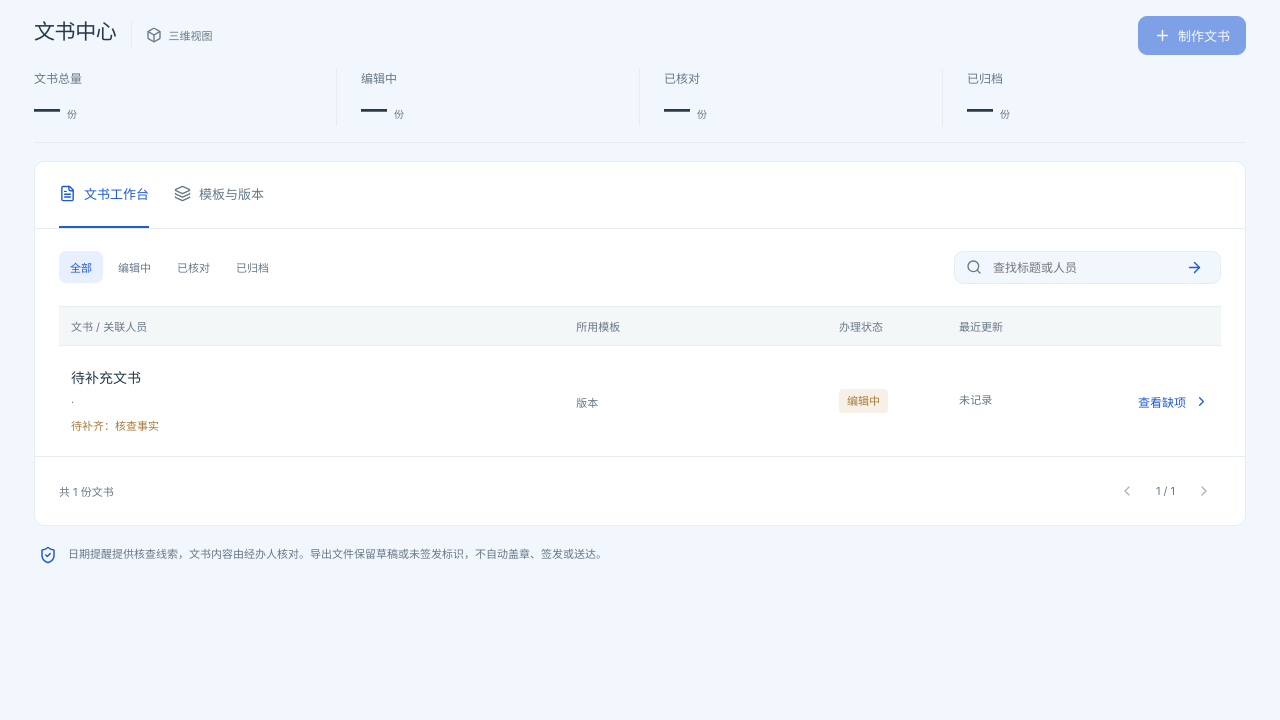
Test: keeps an unsaved document in its workspace until discard is explicitly confirmed
Expected: the text "待补齐：核查事实" is shown, [71,417,159,436]
Click the button with aria-label "打开文书 待补充文书" at (106, 377), box [59,346,1221,456]
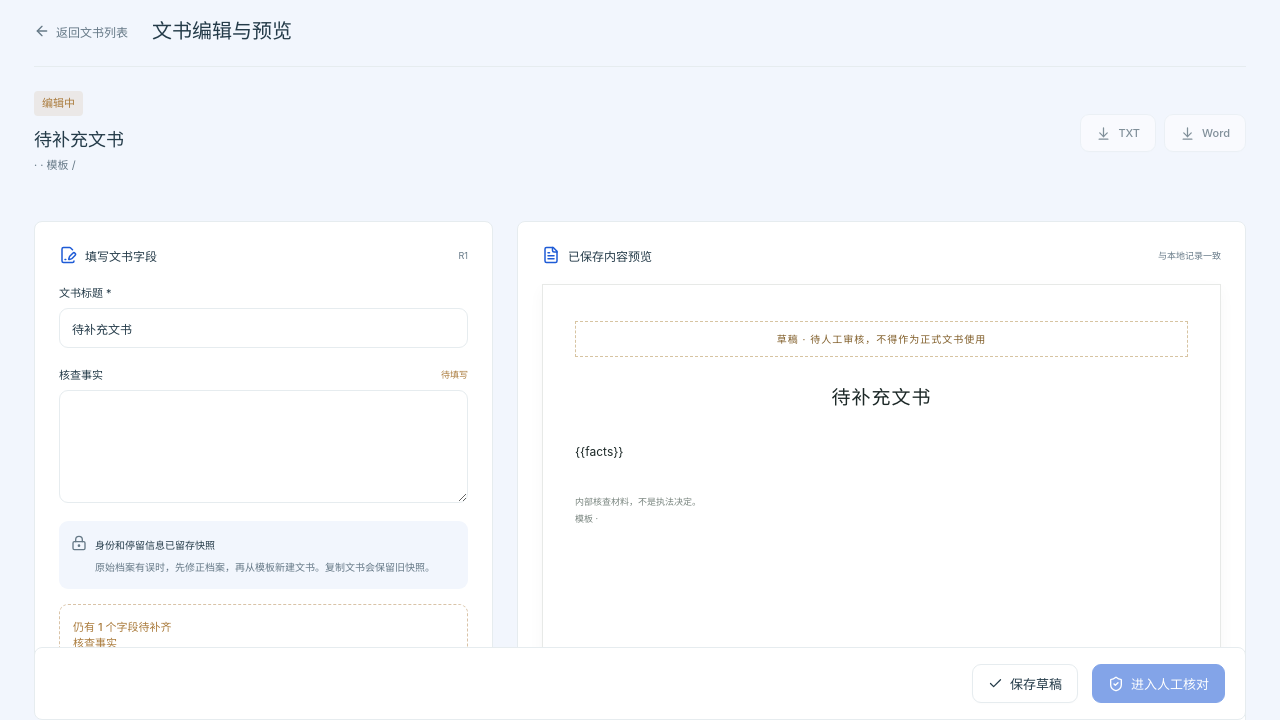
Type "修改" into the field labelled "文书标题 *" at (264, 328), box [59,308,468,348]
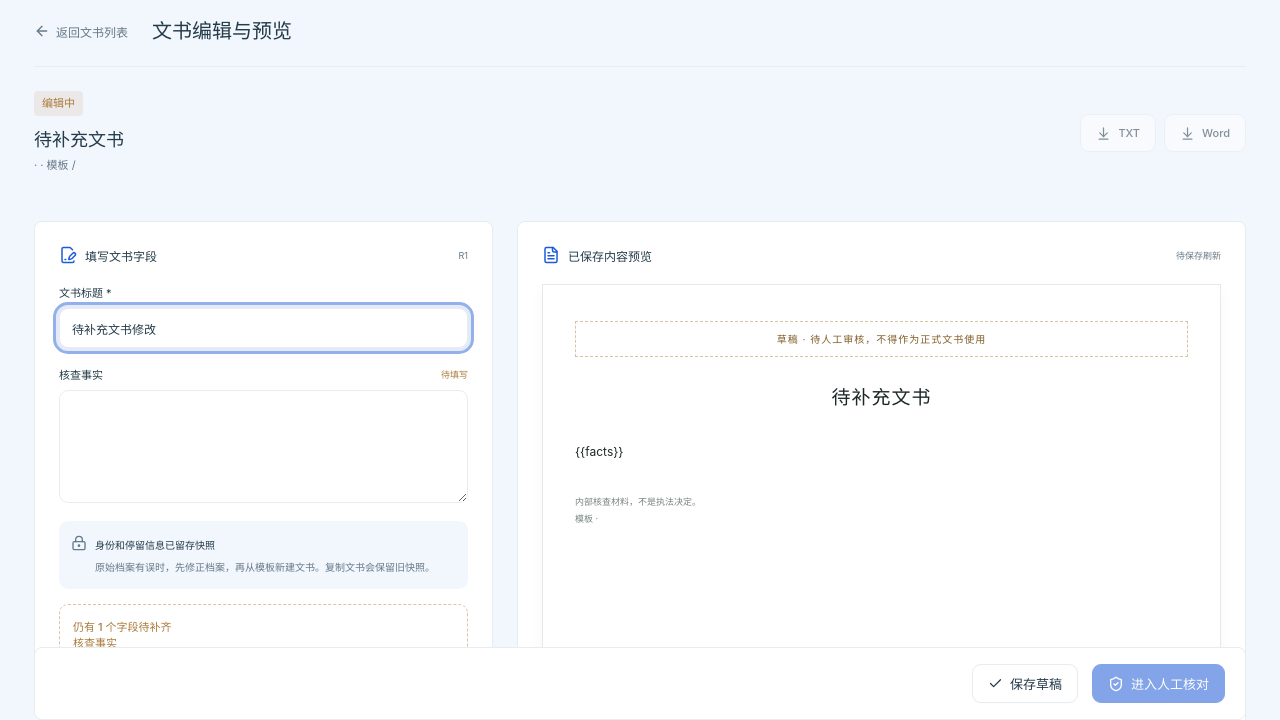
Click the button "返回文书列表" at (81, 31), box [34,18,128,44]
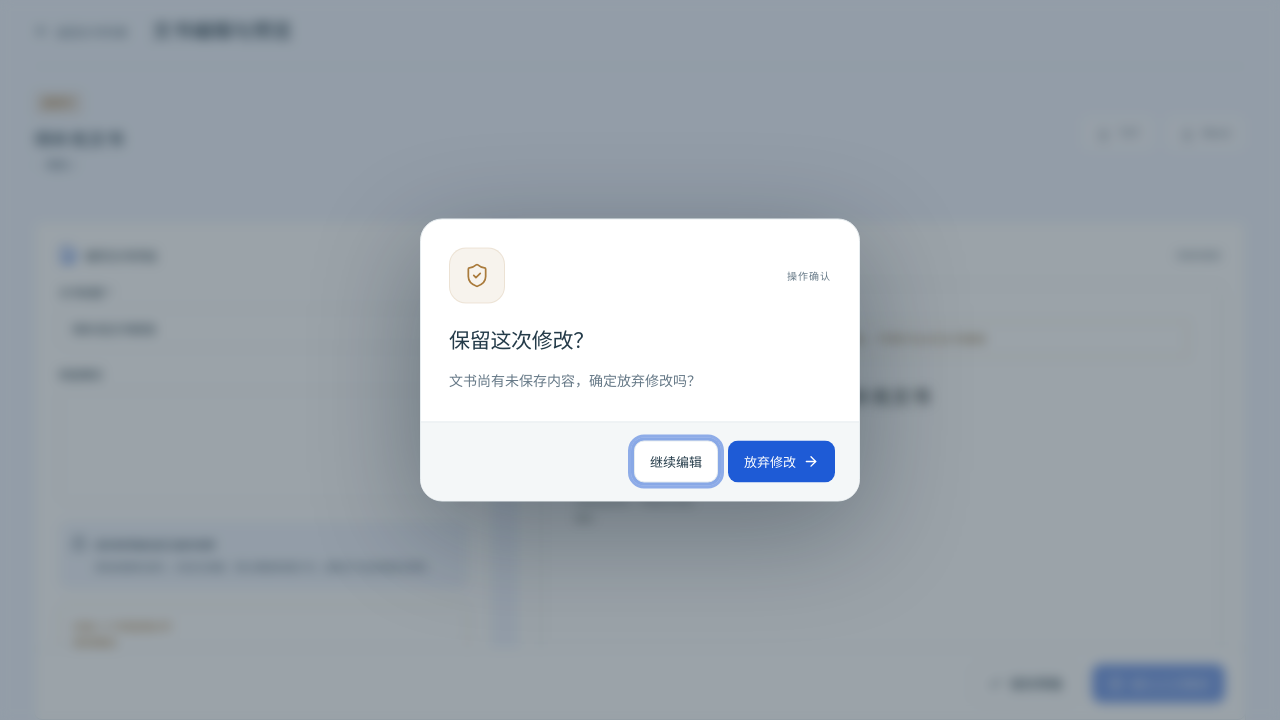
Click the button "继续编辑" at (676, 462), box [634,440,718,482]
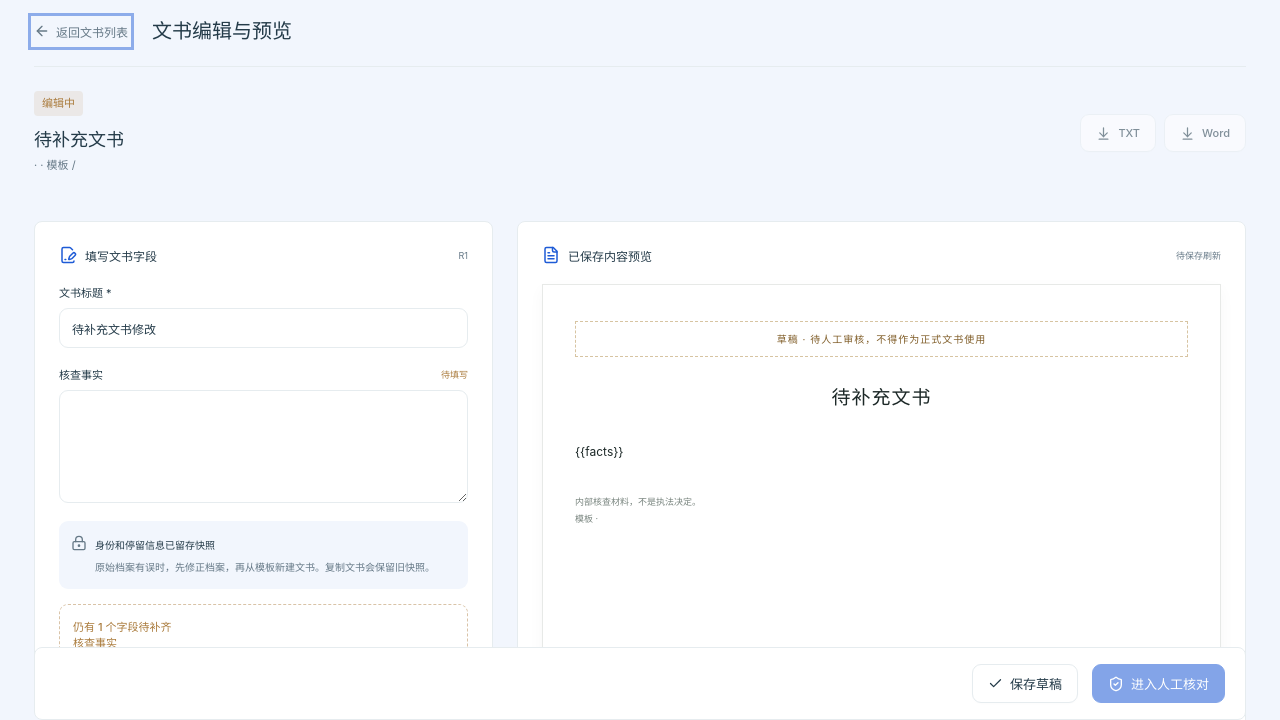
Expected: the field labelled "文书标题 *" holds "待补充文书修改", [59,308,468,348]
Click the button "返回文书列表" at (81, 31), box [34,18,128,44]
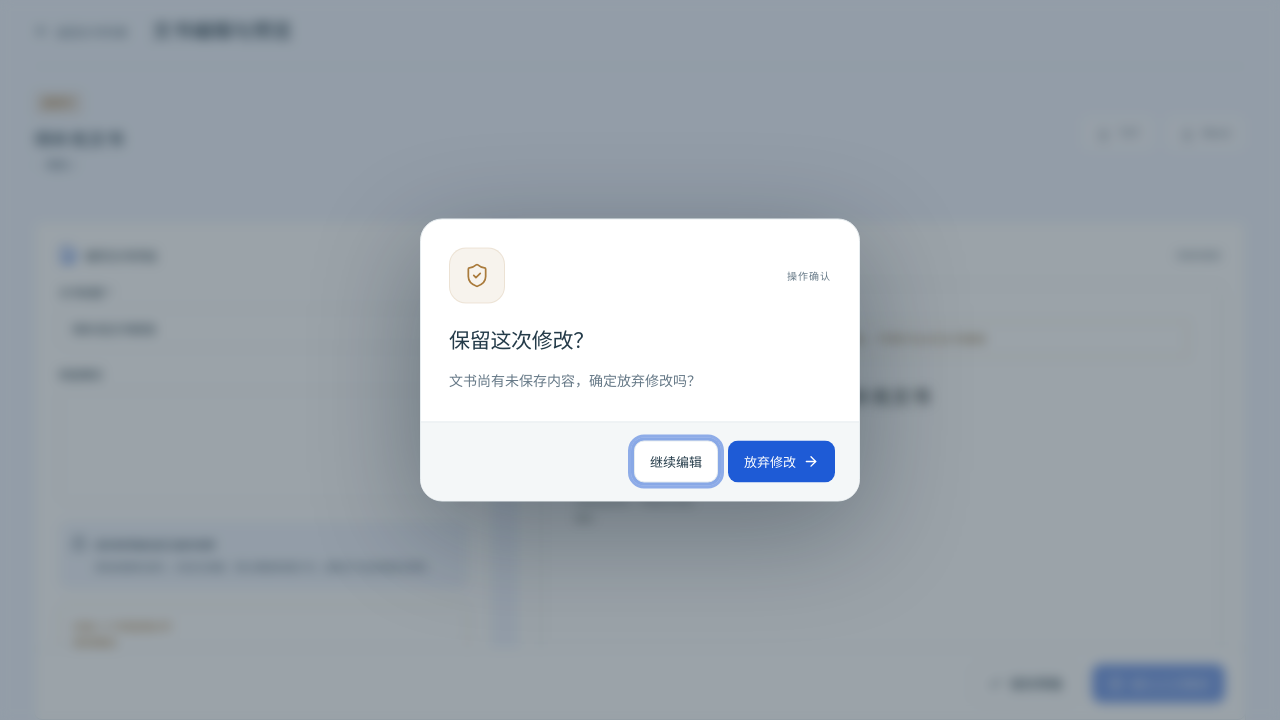
Click the button "放弃修改" at (782, 462), box [728,440,835,482]
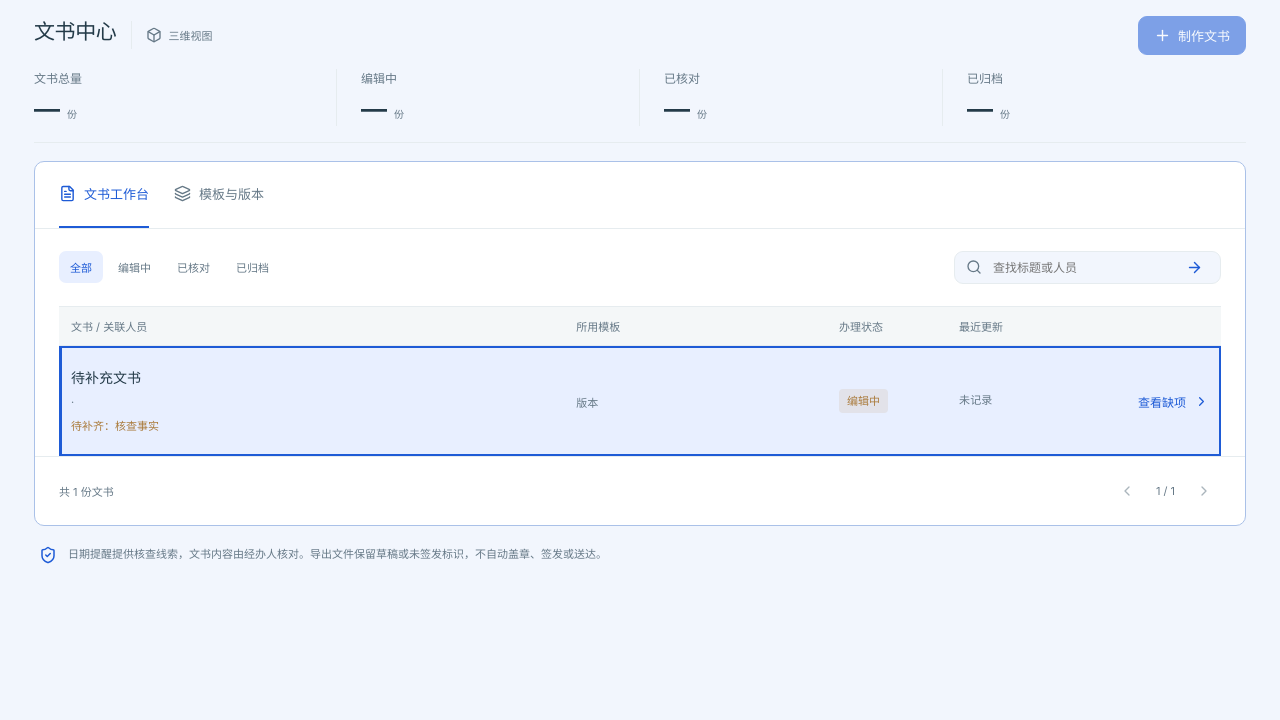
Expected: the button with aria-label "打开文书 待补充文书" is shown, [59,346,1221,456]
